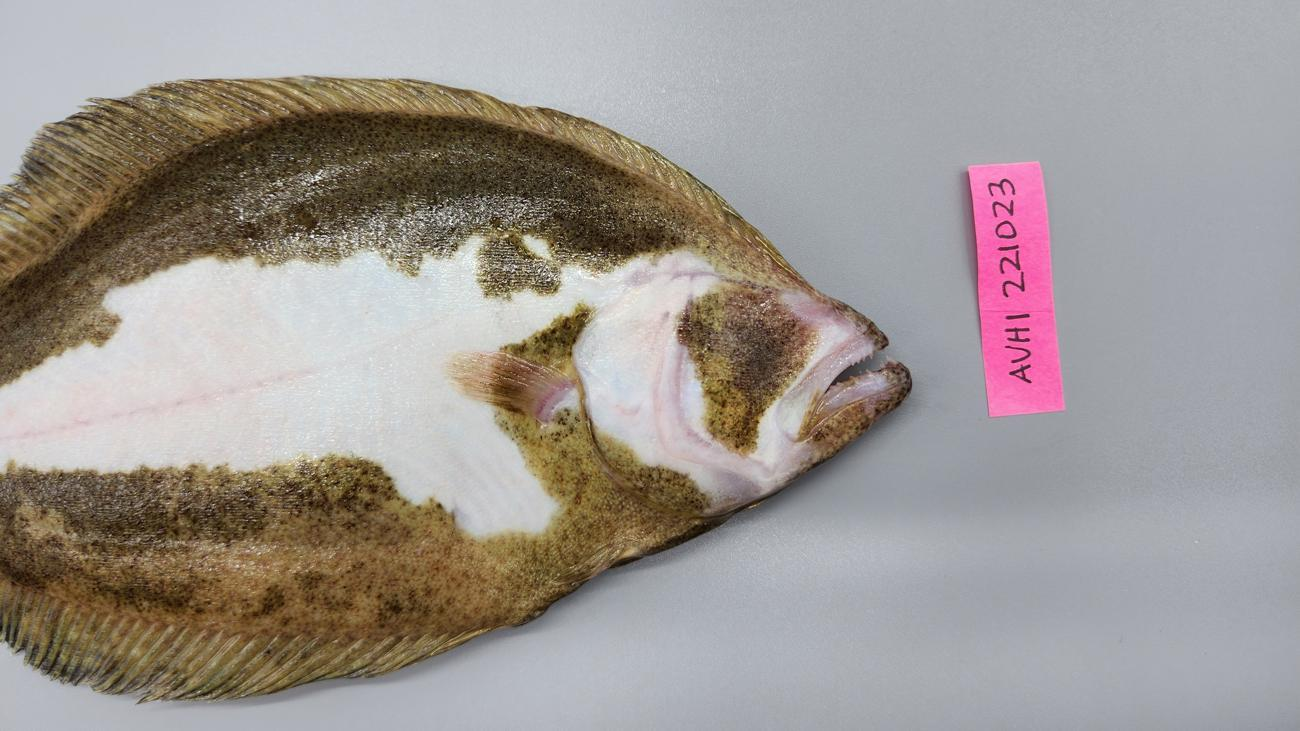VIDYH: (22, 275, 302, 448)
